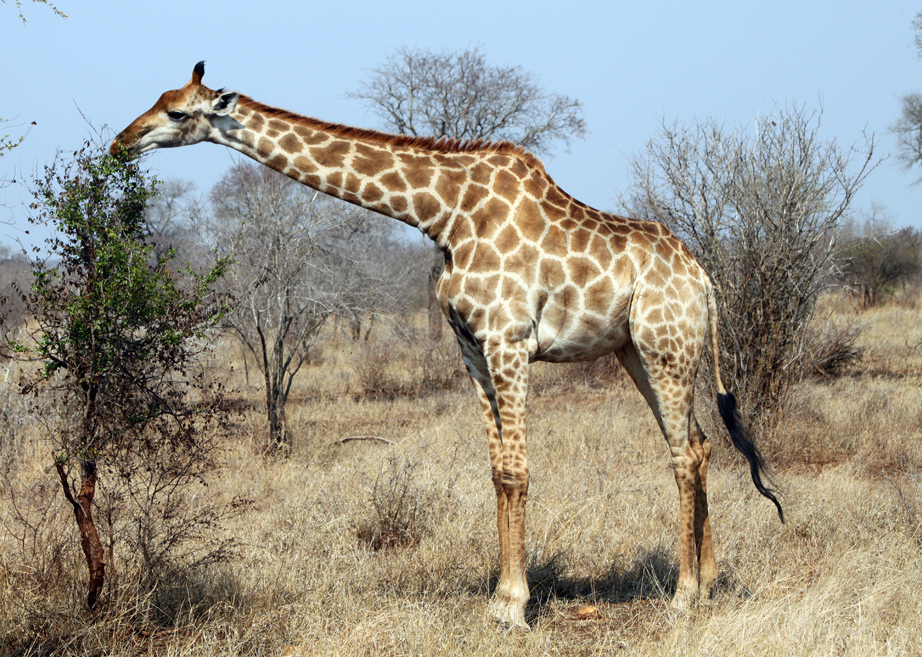giraffe: (99, 48, 797, 621)
